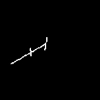double_crochet: (11, 38, 46, 63)
